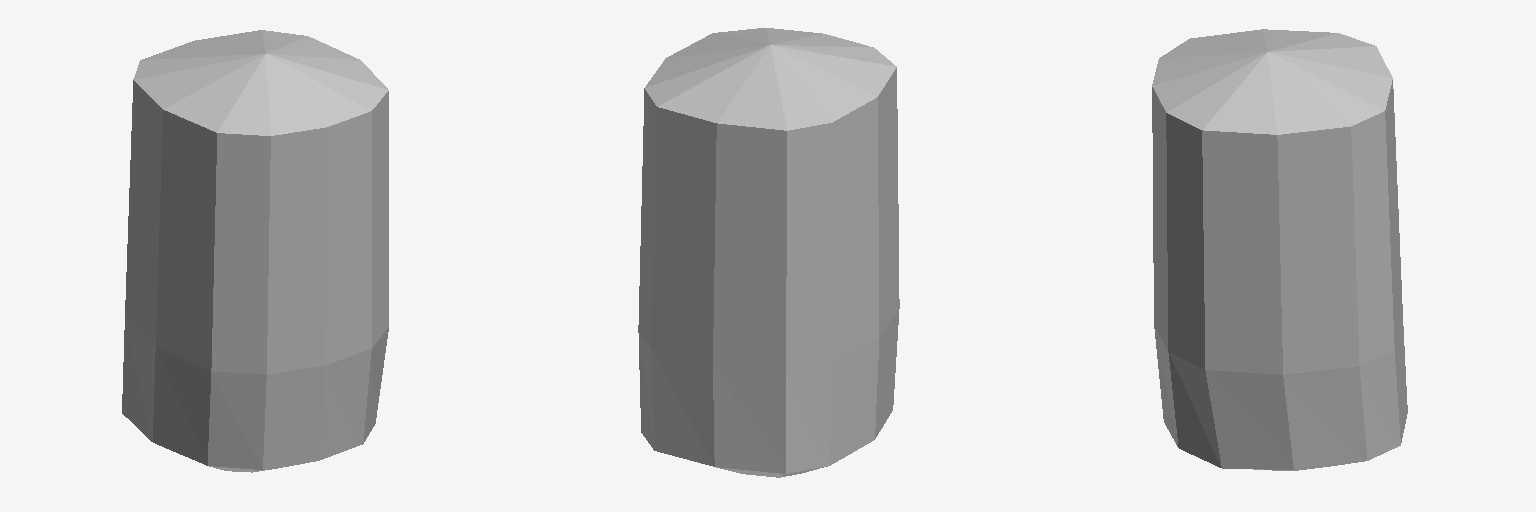
The model's file is legUL.obj.
3 renders of one model, left to right at view 1: azimuth 30°, elevation 25°; view 2: azimuth 150°, elevation 25°; view 3: azimuth 270°, elevation 25°, orthographic.
Parts seen in each view (by area): view 1: mat5 legUL; view 2: mat5 legUL; view 3: mat5 legUL.
Boxes of the visible parts, box(x1,y1,x2,y2) form: mat5 legUL: box(122, 30, 388, 472); mat5 legUL: box(638, 28, 899, 477); mat5 legUL: box(1152, 29, 1407, 470).
Bounding box in the file's own units: 0.1523 × 0.2828 × 0.1592.